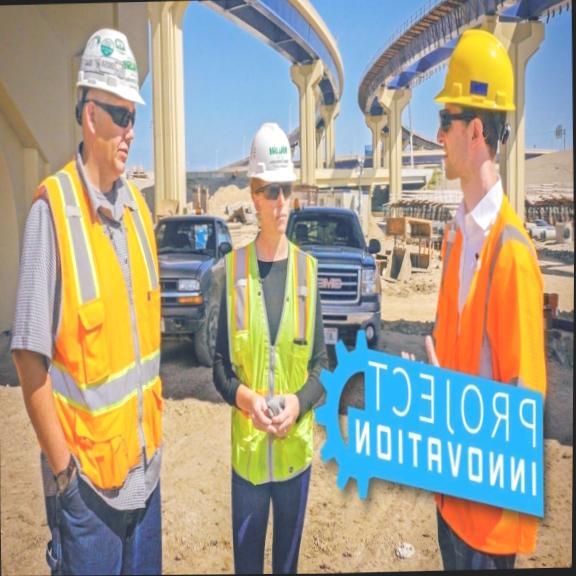safety_vest: (28, 173, 168, 524), (211, 242, 331, 502), (426, 220, 540, 369)
